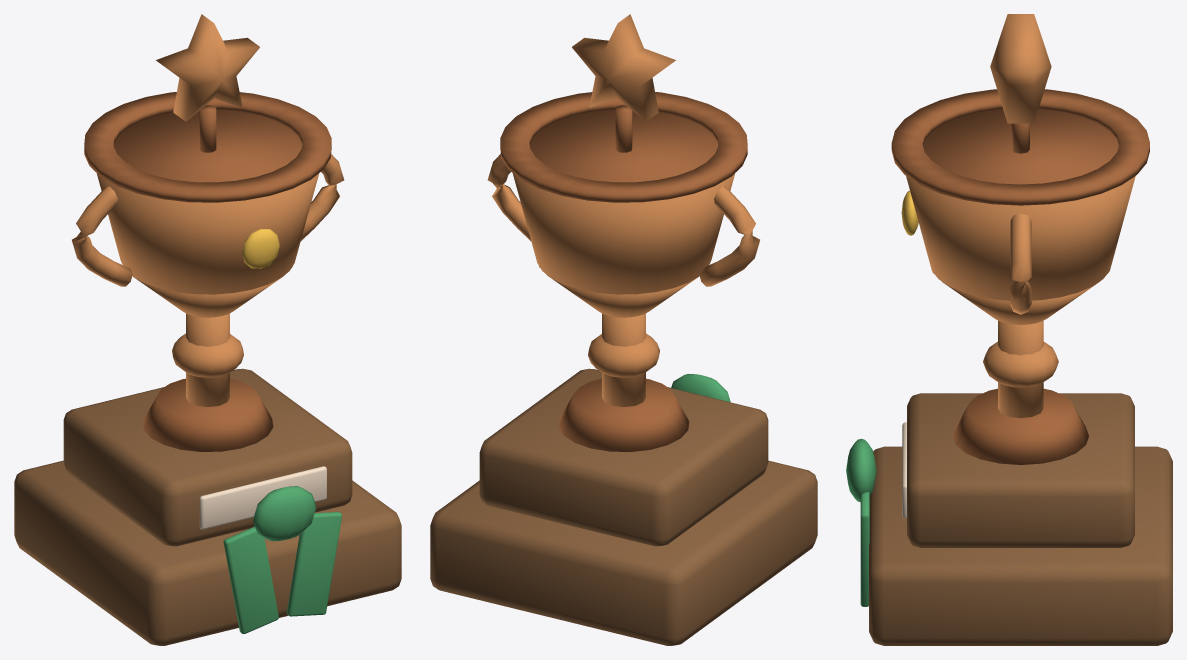
File: trophy-bronze.glb
3 views of the same model, side by side, from view 1: azimuth 30°, elevation 25°; view 2: azimuth 150°, elevation 25°; view 3: azimuth 270°, elevation 25° (orthographic). The views are drawn at different scales.
Parts seen in each view (by area): view 1: trophy; view 2: trophy; view 3: trophy.
Part boxes in pixels (left/top/right/bottom): trophy: left=14, top=14, right=401, bottom=645; trophy: left=430, top=14, right=817, bottom=645; trophy: left=846, top=14, right=1172, bottom=645.
Bounding box in the file's own units: 0.428 × 0.833 × 0.43.
